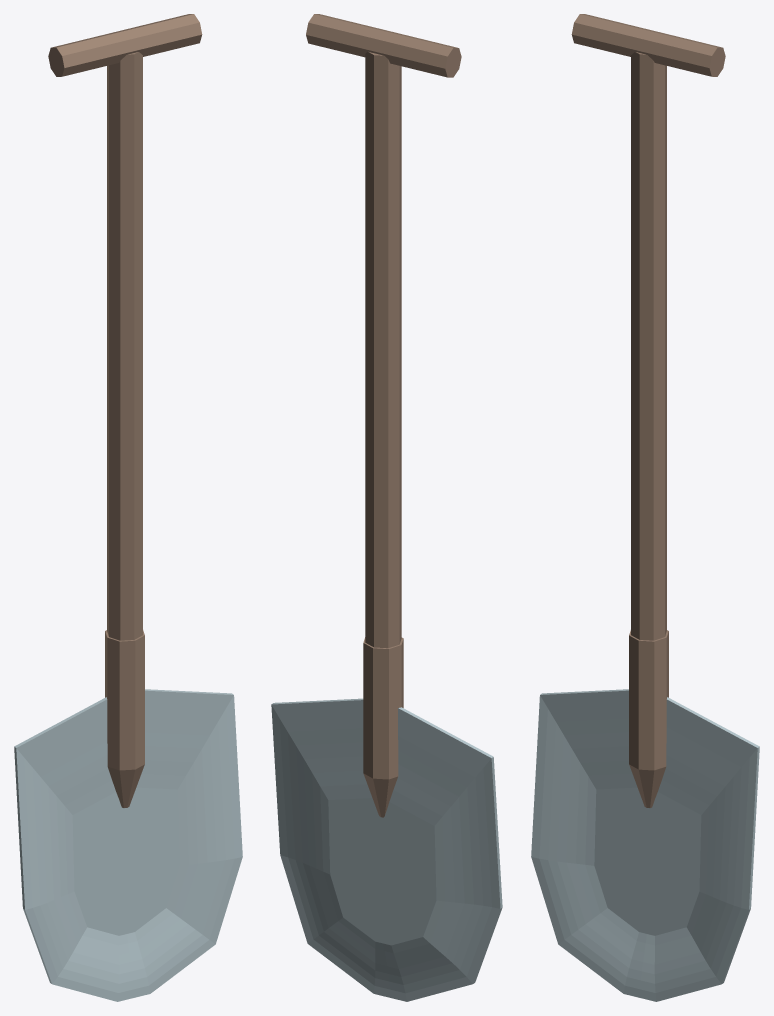
The model's file is Shovel.fbx.
3 views of the same model, side by side, from view 1: azimuth 30°, elevation 25°; view 2: azimuth 150°, elevation 25°; view 3: azimuth 330°, elevation 25° (orthographic).
Parts seen in each view (by area): view 1: Cylinder; view 2: Cylinder; view 3: Cylinder.
Boxes of the visible parts, bbox=[...] form: Cylinder: bbox=[14, 14, 242, 1001]; Cylinder: bbox=[271, 14, 502, 1001]; Cylinder: bbox=[531, 14, 759, 1001].
Size of the model in its own units: 169 by 712 by 27.65.
